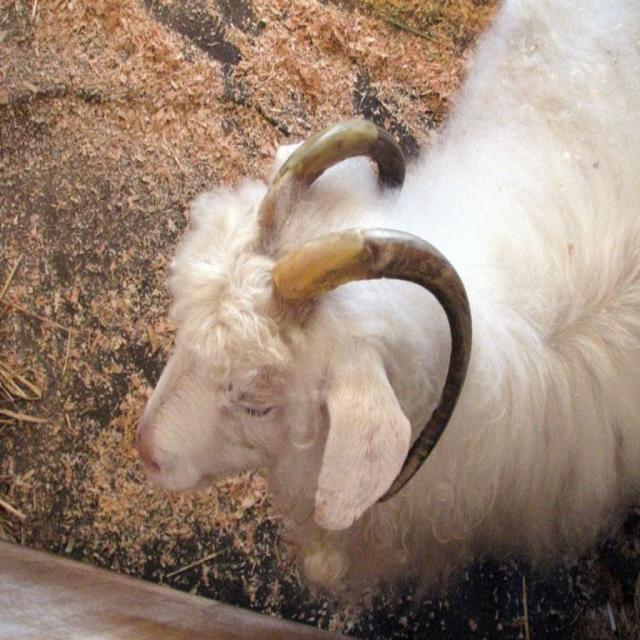Goat: (135, 2, 640, 604)
